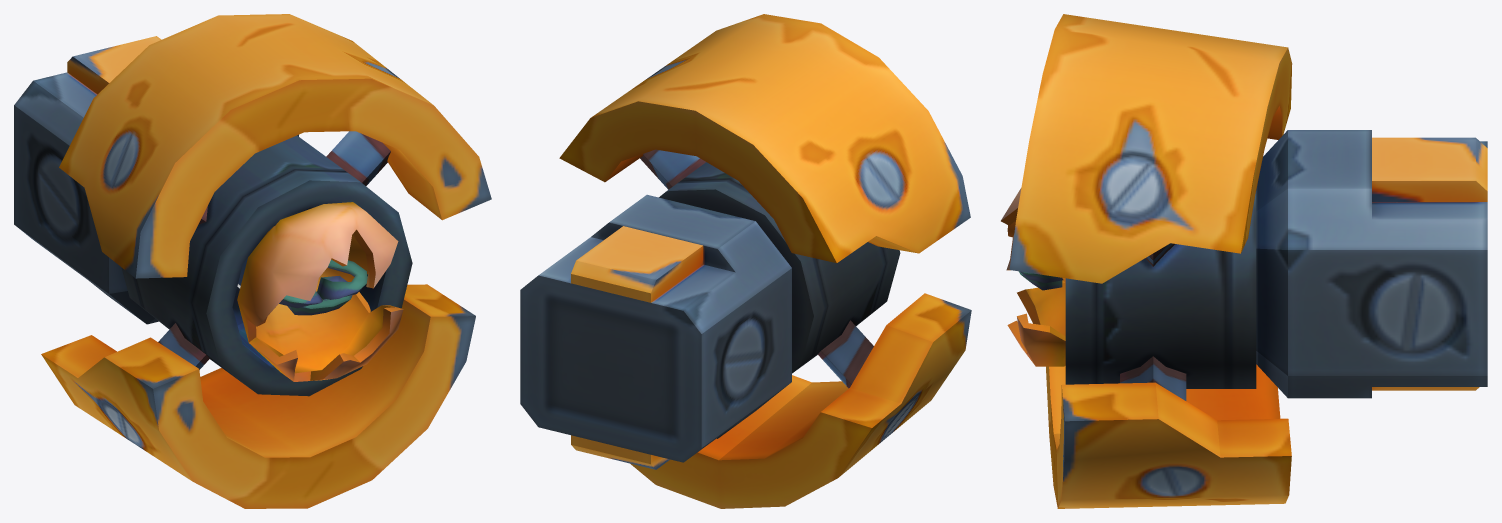
The model's file is env_ruin_lamp_broken_01_lod0.fbx.
3 renders of one model, left to right at view 1: azimuth 30°, elevation 25°; view 2: azimuth 150°, elevation 25°; view 3: azimuth 270°, elevation 25°, orthographic. The views are drawn at different scales.
Visible parts, largest first — view 1: env_ruin_ruinlamp_broken; view 2: env_ruin_ruinlamp_broken; view 3: env_ruin_ruinlamp_broken.
Boxes of the visible parts, <box> form: env_ruin_ruinlamp_broken: <box>14,14,491,508</box>; env_ruin_ruinlamp_broken: <box>520,14,971,508</box>; env_ruin_ruinlamp_broken: <box>1001,14,1487,508</box>.
Size of the model in its own units: 3.15 by 3.74 by 3.64.
